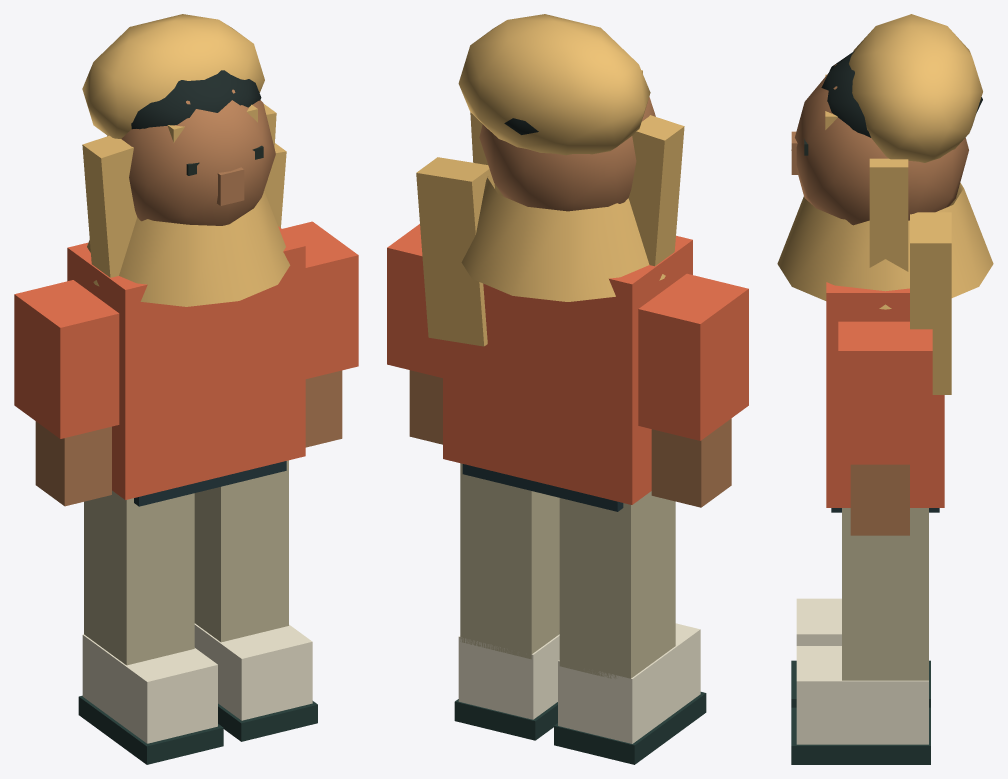
Rendered from male-tudung-duck-luxe.glb.
3 renders of one model, left to right at view 1: azimuth 30°, elevation 25°; view 2: azimuth 150°, elevation 25°; view 3: azimuth 270°, elevation 25°, orthographic. The views are drawn at different scales.
Parts seen in each view (by area): view 1: male-tudung-duck-luxe, avatar-tudung, tudung-neck-wrap; view 2: male-tudung-duck-luxe, avatar-tudung, tudung-neck-wrap; view 3: male-tudung-duck-luxe, avatar-tudung, tudung-neck-wrap.
Boxes of the visible parts, <box> form: male-tudung-duck-luxe: <box>14,70,358,764</box>; avatar-tudung: <box>82,14,286,277</box>; tudung-neck-wrap: <box>87,191,290,306</box>; male-tudung-duck-luxe: <box>387,97,748,764</box>; avatar-tudung: <box>416,14,684,346</box>; tudung-neck-wrap: <box>461,177,665,301</box>; male-tudung-duck-luxe: <box>791,51,982,764</box>; avatar-tudung: <box>825,14,982,394</box>; tudung-neck-wrap: <box>777,183,993,309</box>.
Size of the model in its own units: 1.01 by 2.2 by 0.62.
